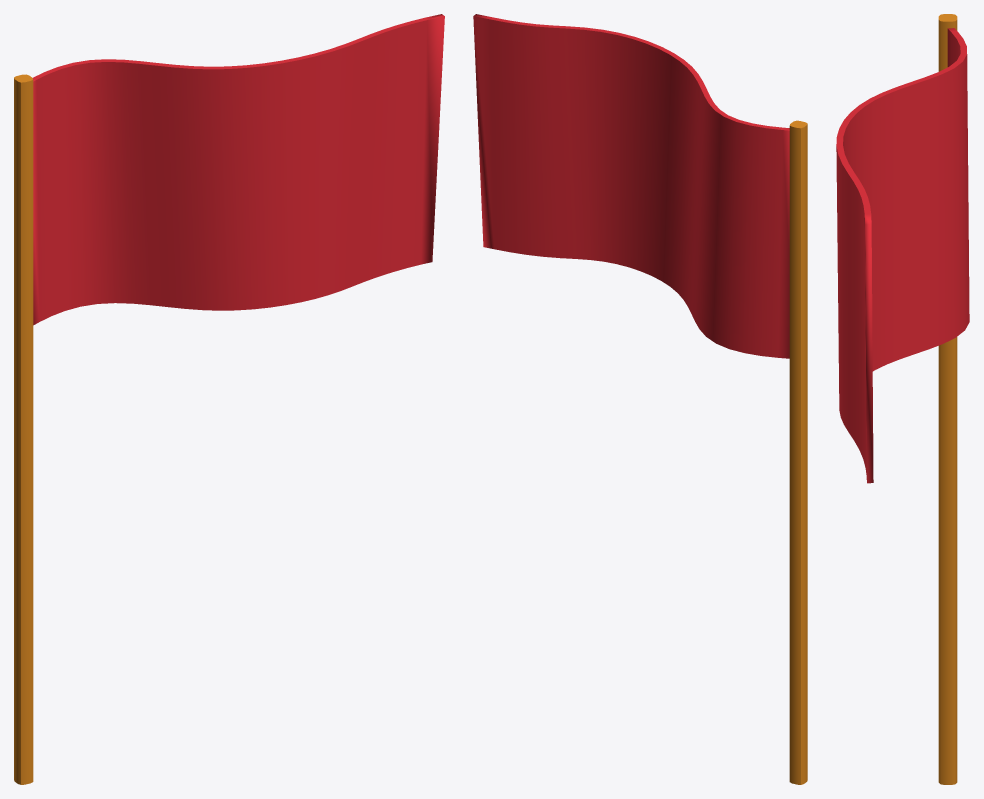
Rendered from flag.fbx.
3 views of the same model, side by side, from view 1: azimuth 30°, elevation 25°; view 2: azimuth 150°, elevation 25°; view 3: azimuth 270°, elevation 25° (orthographic). The views are drawn at different scales.
Visible parts, largest first — view 1: Cube, Cube.001; view 2: Cube, Cube.001; view 3: Cube, Cube.001.
Part boxes in pixels (bbox=[...]): Cube: bbox=[33, 14, 444, 325]; Cube.001: bbox=[14, 74, 33, 784]; Cube: bbox=[473, 14, 789, 358]; Cube.001: bbox=[789, 120, 807, 784]; Cube: bbox=[836, 28, 969, 483]; Cube.001: bbox=[938, 14, 957, 784].
Size of the model in its own units: 600 by 1032 by 163.
